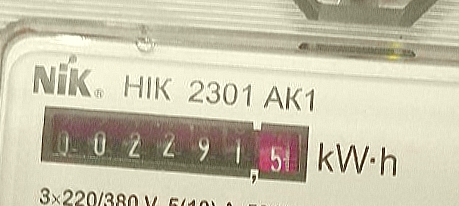0: (51, 125, 70, 155), (89, 127, 106, 157)
1: (227, 133, 243, 168)
2: (124, 129, 141, 159), (159, 129, 174, 159)
5: (265, 142, 283, 173)
9: (193, 133, 210, 163)
screen: (33, 100, 313, 189)
